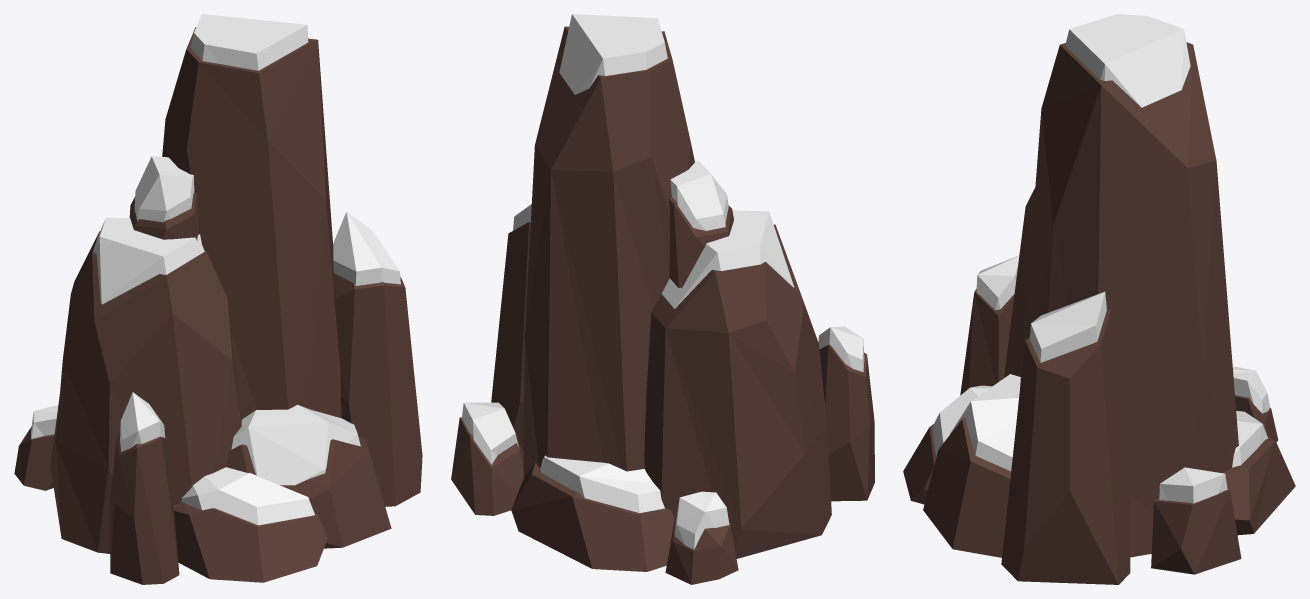
File: snow_rock_012.fbx
3 renders of one model, left to right at view 1: azimuth 30°, elevation 25°; view 2: azimuth 150°, elevation 25°; view 3: azimuth 270°, elevation 25°, orthographic. The views are drawn at different scales.
Parts seen in each view (by area): view 1: snow_rock_012; view 2: snow_rock_012; view 3: snow_rock_012.
Boxes of the visible parts, x1=… form: snow_rock_012: x1=14, y1=14, x2=422, y2=584; snow_rock_012: x1=451, y1=14, x2=874, y2=584; snow_rock_012: x1=903, y1=14, x2=1295, y2=584.
Size of the model in its own units: 894 by 865 by 1167.
